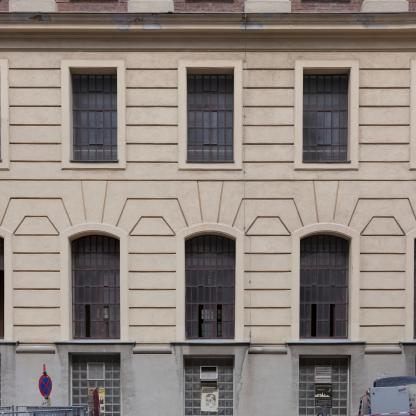Building Outline: (0, 0, 415, 415)
Facade: (0, 0, 415, 415)
Floor: (1, 41, 416, 188), (1, 197, 416, 344)
Floor Slab: (1, 18, 416, 29), (1, 188, 416, 198), (1, 344, 416, 353)
Ground Floor: (1, 354, 416, 416)
Molding: (1, 12, 416, 50)
Sill: (53, 341, 136, 343), (285, 342, 367, 344), (170, 342, 250, 344), (302, 161, 351, 163), (69, 160, 118, 162), (186, 161, 235, 163)
Window: (299, 232, 352, 341), (68, 231, 121, 340), (184, 232, 236, 341), (299, 234, 349, 339), (71, 235, 121, 339), (185, 235, 235, 339), (303, 68, 351, 161), (186, 68, 234, 161), (70, 68, 118, 160), (187, 75, 234, 161), (303, 75, 348, 161), (73, 75, 117, 160), (68, 352, 120, 416), (299, 355, 351, 416), (183, 355, 235, 416), (183, 357, 235, 416), (71, 355, 120, 416), (299, 357, 349, 416)
